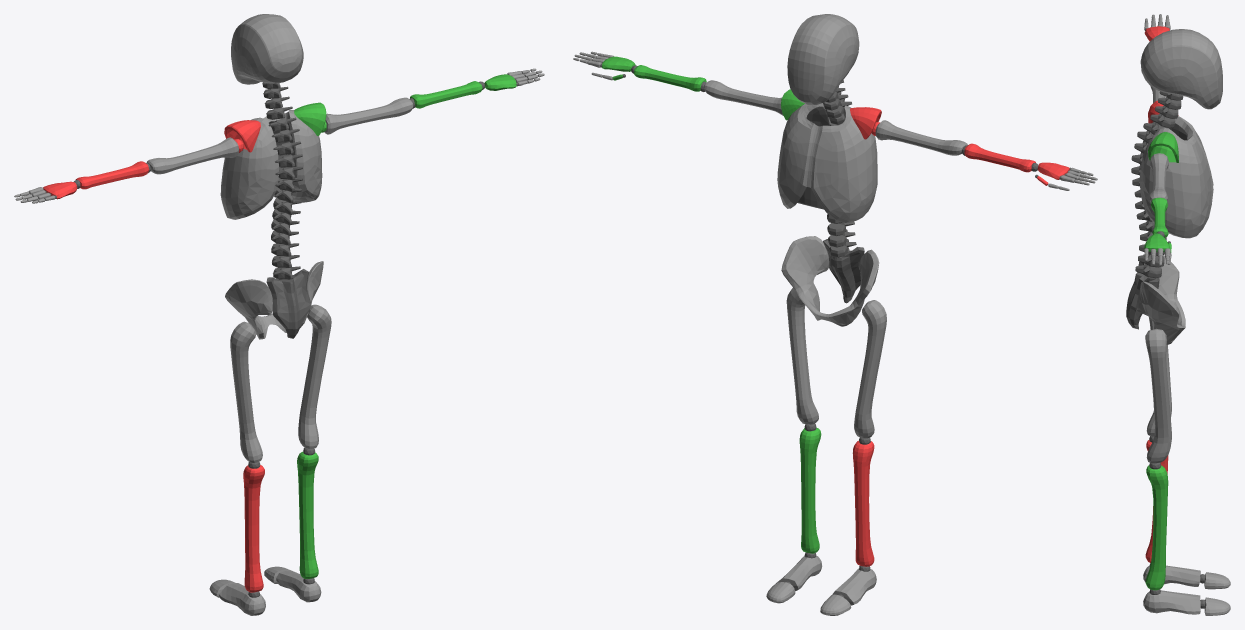
Rendered from unknown.obj.
The picture shows the model from 3 angles, left to right: view 1: azimuth 30°, elevation 25°; view 2: azimuth 150°, elevation 25°; view 3: azimuth 270°, elevation 25°; orthographic projection. The views are drawn at different scales.
Parts seen in each view (by area): view 1: MeshNode; view 2: MeshNode; view 3: MeshNode.
Boxes of the visible parts, <box> form: MeshNode: <box>14,14,544,615</box>; MeshNode: <box>573,14,1097,615</box>; MeshNode: <box>1126,14,1230,615</box>.
Size of the model in its own units: 1700 by 1792 by 300.
